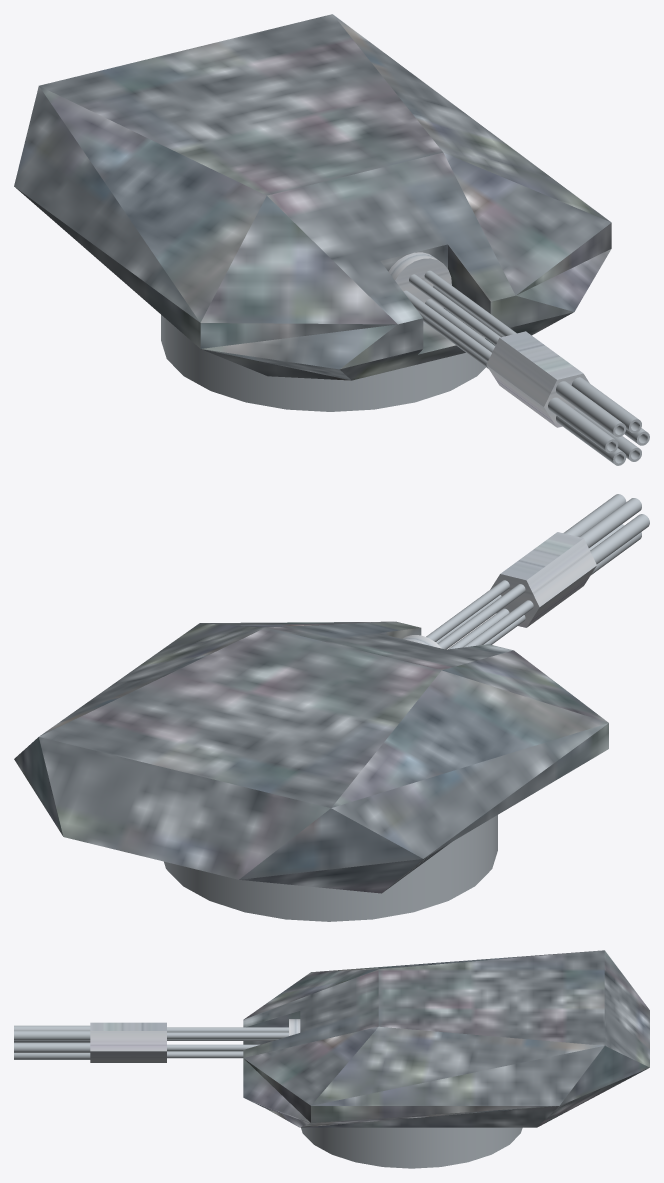
File: 重机枪MachineGun【武器】贴图版.fbx
3 renders of one model, top to bottom at view 1: azimuth 30°, elevation 25°; view 2: azimuth 150°, elevation 25°; view 3: azimuth 270°, elevation 25°, orthographic. The views are drawn at different scales.
Parts seen in each view (by area): view 1: Group1, Group3, Group2; view 2: Group1, Group3, Group2; view 3: Group1, Group3, Group2.
Part boxes in pixels (bbox=[...]): Group1: bbox=[14, 14, 611, 380]; Group3: bbox=[388, 252, 649, 465]; Group2: bbox=[161, 315, 495, 411]; Group1: bbox=[14, 621, 608, 893]; Group3: bbox=[402, 494, 649, 649]; Group2: bbox=[164, 815, 497, 921]; Group1: bbox=[243, 950, 649, 1127]; Group3: bbox=[14, 1019, 300, 1062]; Group2: bbox=[301, 1127, 522, 1168].
Bounding box in the file's own units: 1.4 × 0.6 × 2.81.
